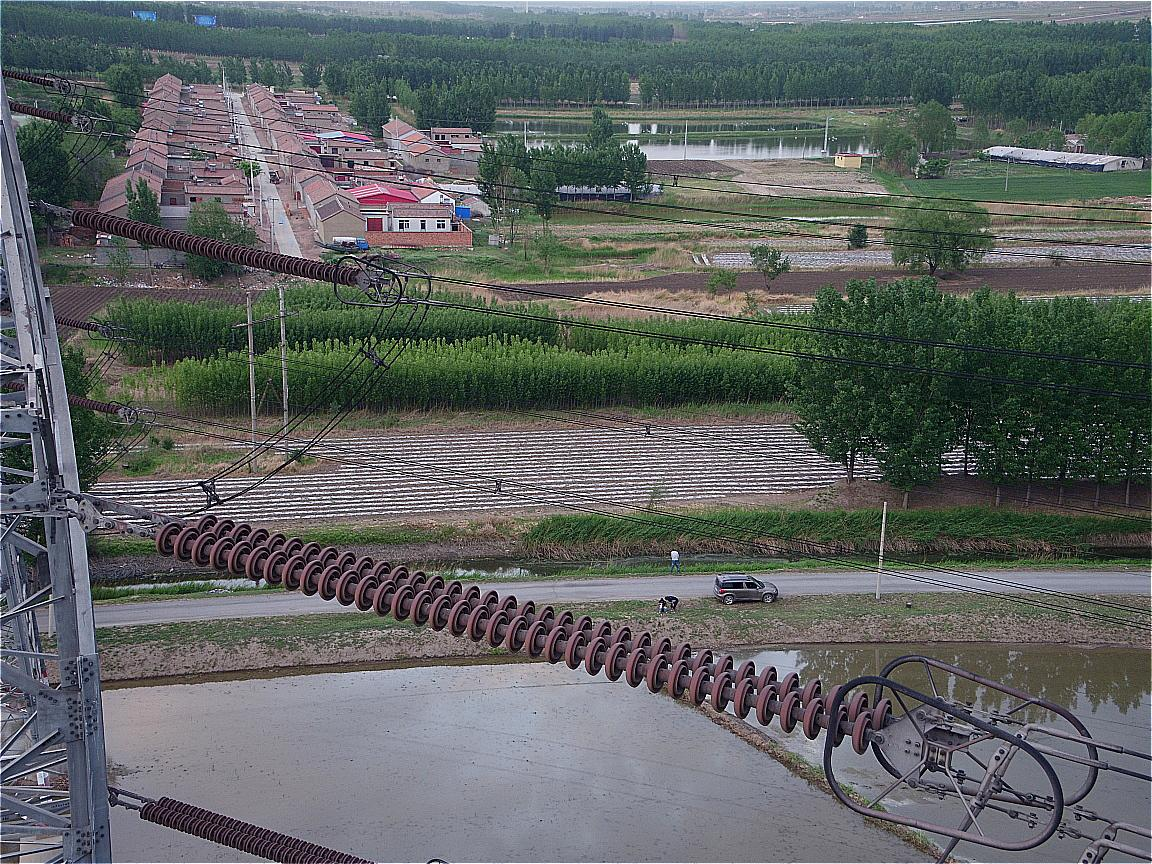insultor1: (147, 499, 895, 763)
insultor2: (59, 191, 381, 297)
